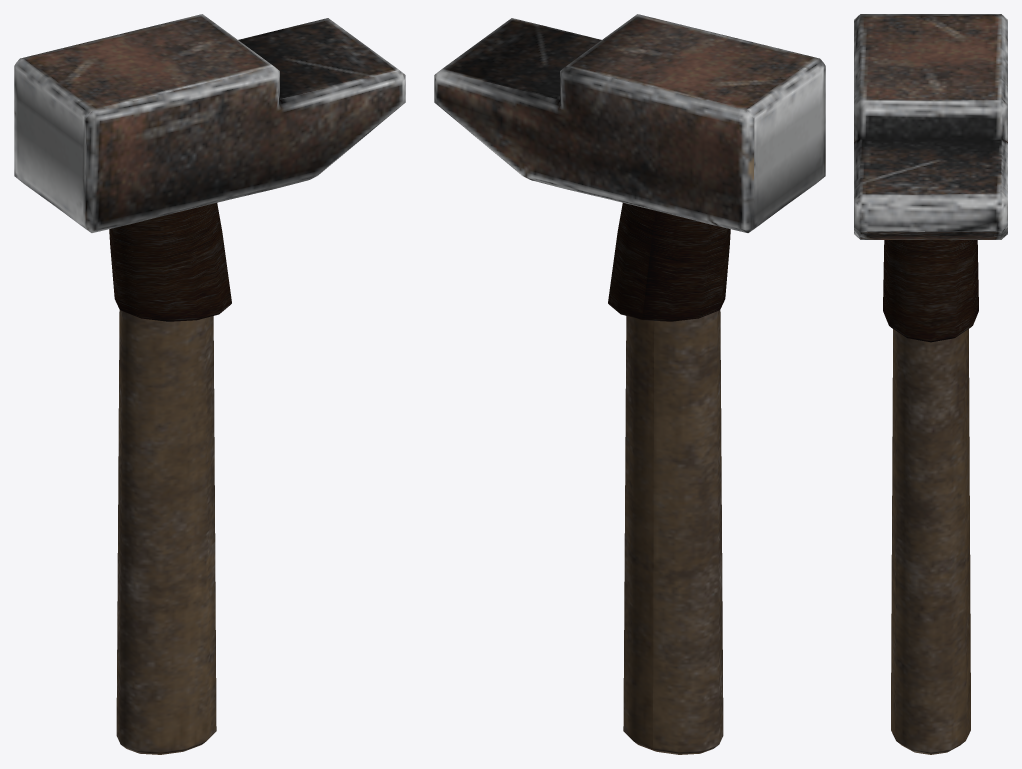
Rendered from Hammer1Edited.fbx.
The picture shows the model from 3 angles, left to right: view 1: azimuth 30°, elevation 25°; view 2: azimuth 150°, elevation 25°; view 3: azimuth 270°, elevation 25°; orthographic projection.
Parts seen in each view (by area): view 1: Hammer_Sledge, Hammer_Sledge.002, Hammer_Sledge.001; view 2: Hammer_Sledge, Hammer_Sledge.002, Hammer_Sledge.001; view 3: Hammer_Sledge, Hammer_Sledge.002, Hammer_Sledge.001.
Boxes of the visible parts, bbox=[...] form: Hammer_Sledge: bbox=[14, 14, 405, 232]; Hammer_Sledge.002: bbox=[116, 310, 216, 754]; Hammer_Sledge.001: bbox=[109, 203, 231, 321]; Hammer_Sledge: bbox=[434, 14, 825, 232]; Hammer_Sledge.002: bbox=[623, 310, 723, 754]; Hammer_Sledge.001: bbox=[608, 203, 730, 321]; Hammer_Sledge: bbox=[854, 14, 1007, 239]; Hammer_Sledge.002: bbox=[891, 329, 970, 754]; Hammer_Sledge.001: bbox=[883, 240, 978, 342].
Size of the model in its own units: 22.79 by 46.44 by 9.68.
